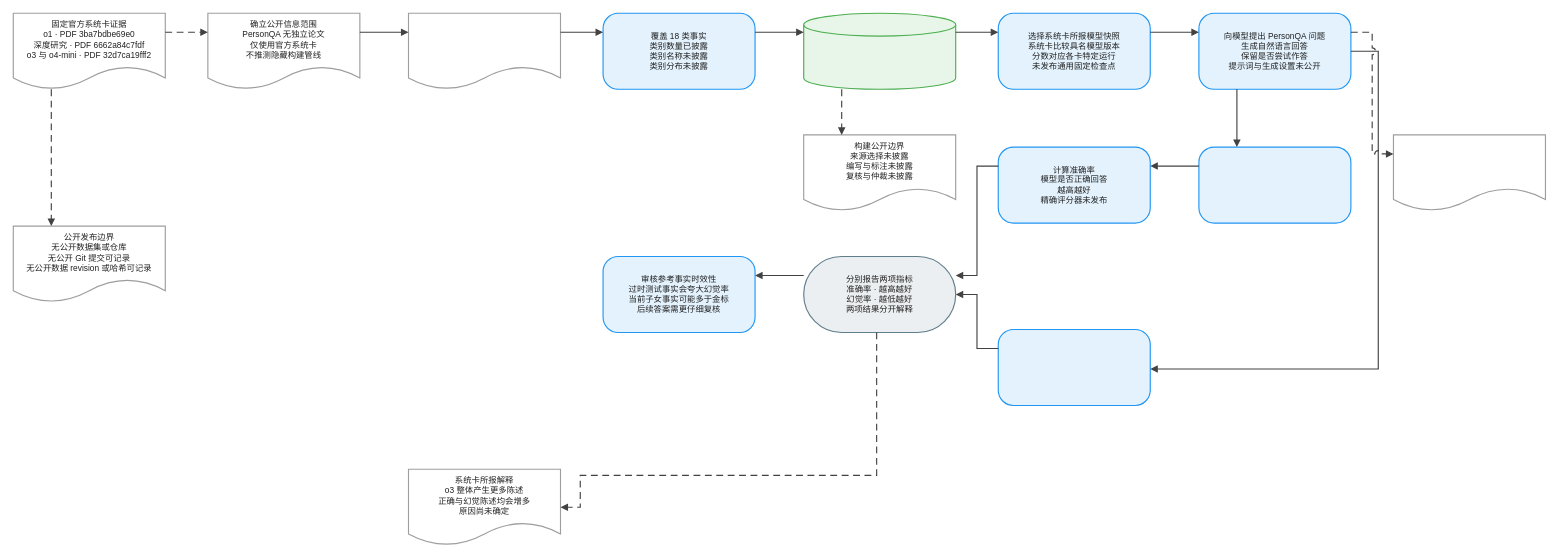
This 1560x559 diagram has some shape labels left out. The centre of each missing label's shape, as x and y in pixels:
使用内部评测集 包含人物事实问题与参考事实 样本量与划分未公开 未发布题目载荷: the point at 879,51
定义人物事实问答 面向人物提出问题 使用公开可得事实 衡量已尝试答案准确率: the point at 484,51
应用已尝试答案口径 准确率面向已尝试答案 拒答与弃答处理未披露 精确分母未披露: the point at 1274,184
计算幻觉率 模型产生幻觉的频率 越低越好 精确评分器未发布: the point at 1073,367
评测实现边界 提示词与解析器未披露 生成设置未披露 试验次数与评分器未披露: the point at 1469,172
